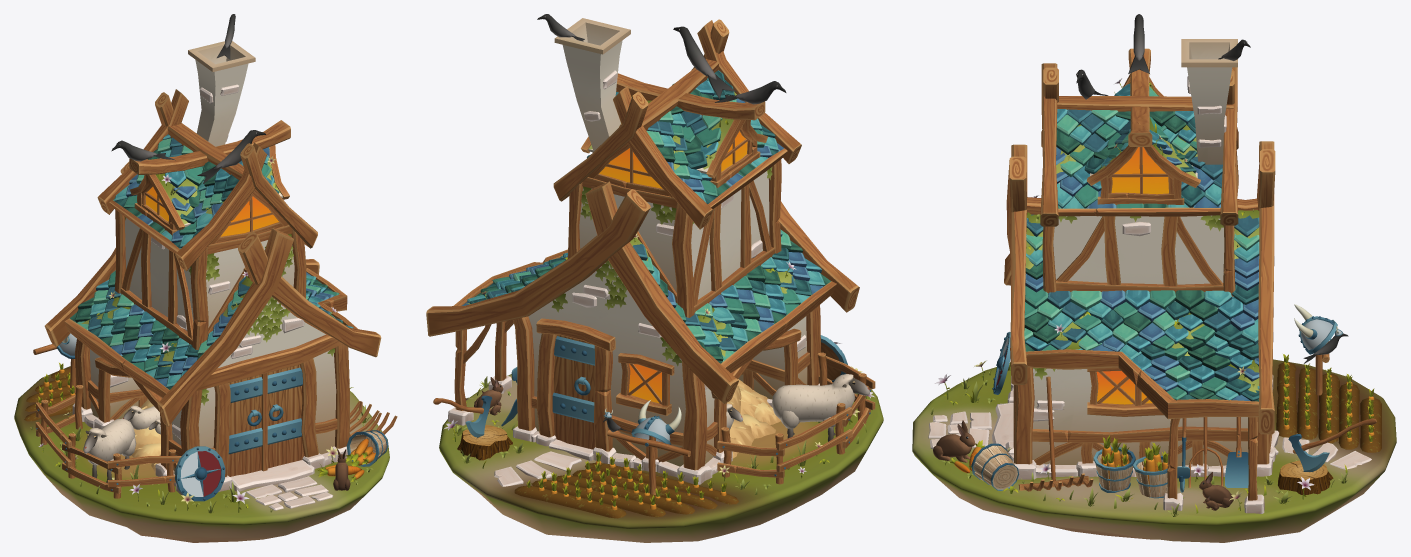
3 renders of one model, left to right at view 1: azimuth 30°, elevation 25°; view 2: azimuth 150°, elevation 25°; view 3: azimuth 270°, elevation 25°, orthographic. The views are drawn at different scales.
Parts seen in each view (by area): view 1: HouseProps_geo_01; view 2: HouseProps_geo_01; view 3: HouseProps_geo_01.
Part boxes in pixels (left/top/right/bottom): HouseProps_geo_01: left=14, top=14, right=397, bottom=542; HouseProps_geo_01: left=426, top=14, right=883, bottom=542; HouseProps_geo_01: left=912, top=14, right=1396, bottom=542.
Size of the model in its own units: 638 by 855 by 737.
3 materials, 3 textured.
